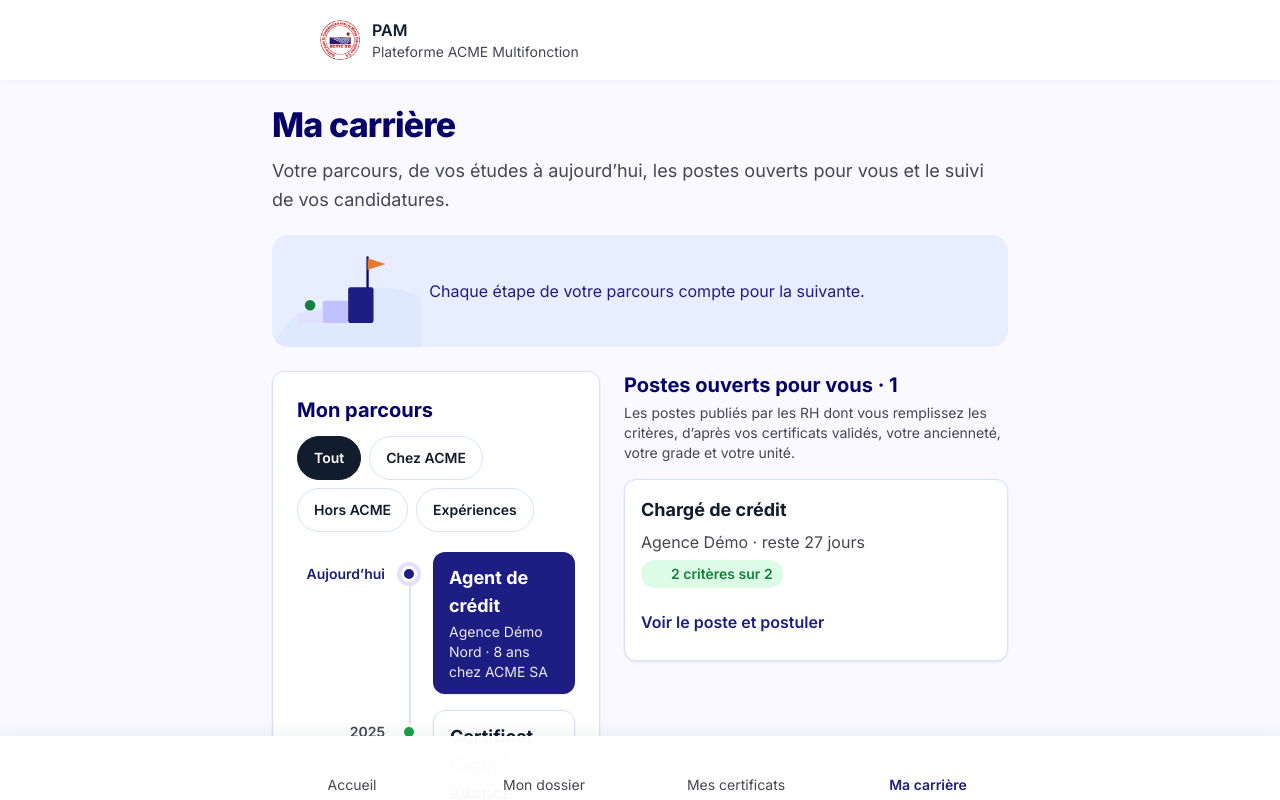
US-131 CA-03 — les postes en petites cartes, à déplier › « Voir le poste et postuler » déplie la date limite, la mission et les critères (US-801), sans grade (US-122)
Step 1. Click the button "Voir le poste et postuler" → coordinates (745, 622), box [641,600,848,644]
(page scrolled)
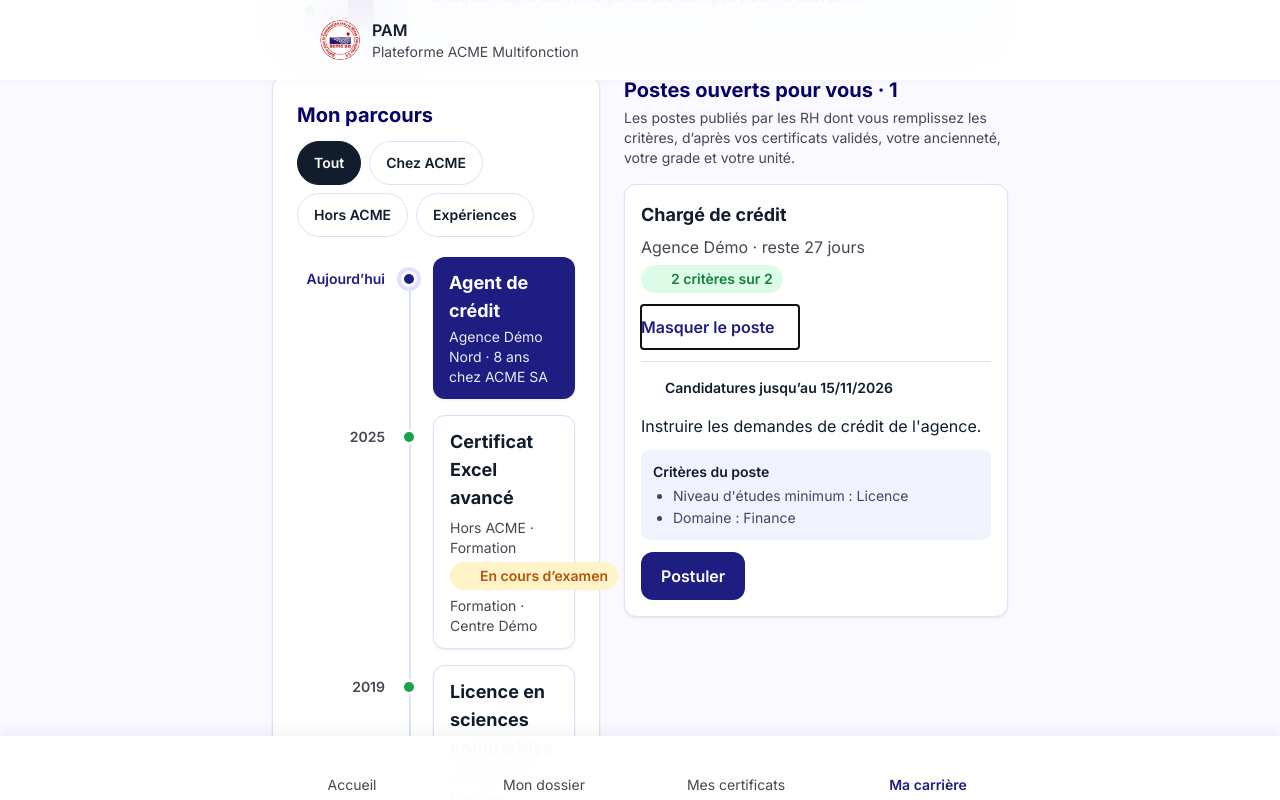
Check: the button "Masquer le poste" is expanded, box [641,304,798,348]
Check: the element "Chargé de crédit" shows "Candidatures jusqu’au 15/11/2026", box [624,184,1008,616]
Check: the element "Chargé de crédit" shows "Instruire les demandes de crédit de l'agence.", box [641,416,981,436]
